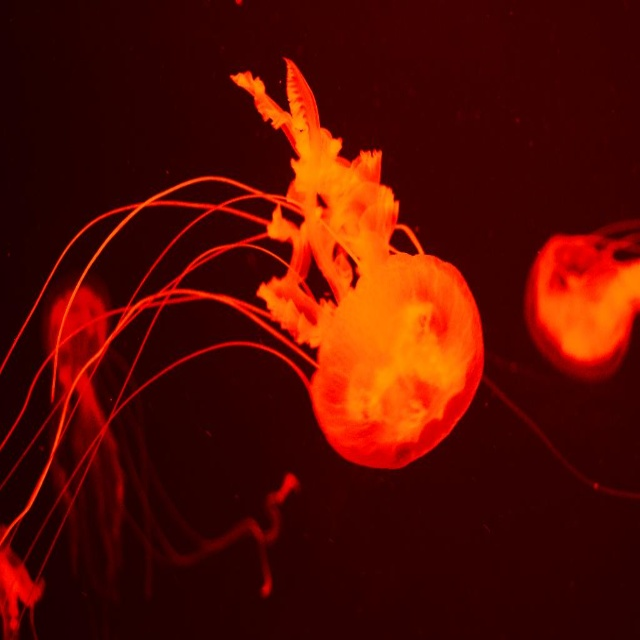Jellyfish: (22, 40, 516, 545), (521, 222, 640, 377)
